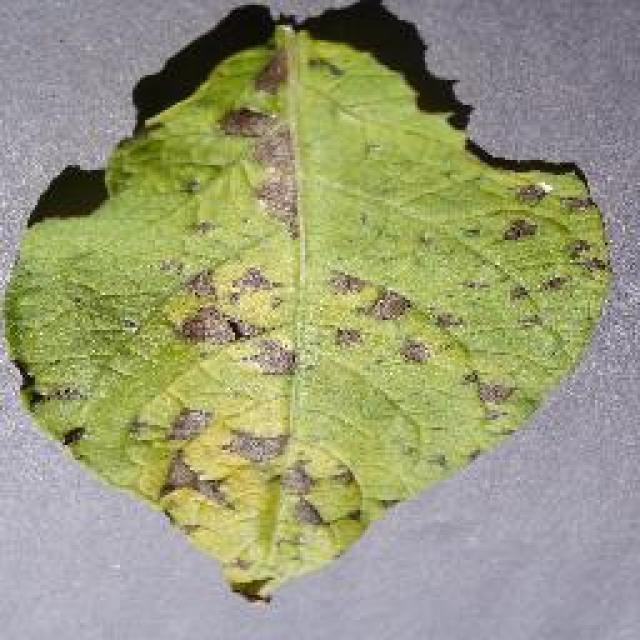Potato___Early_blight: (0, 21, 612, 612)
